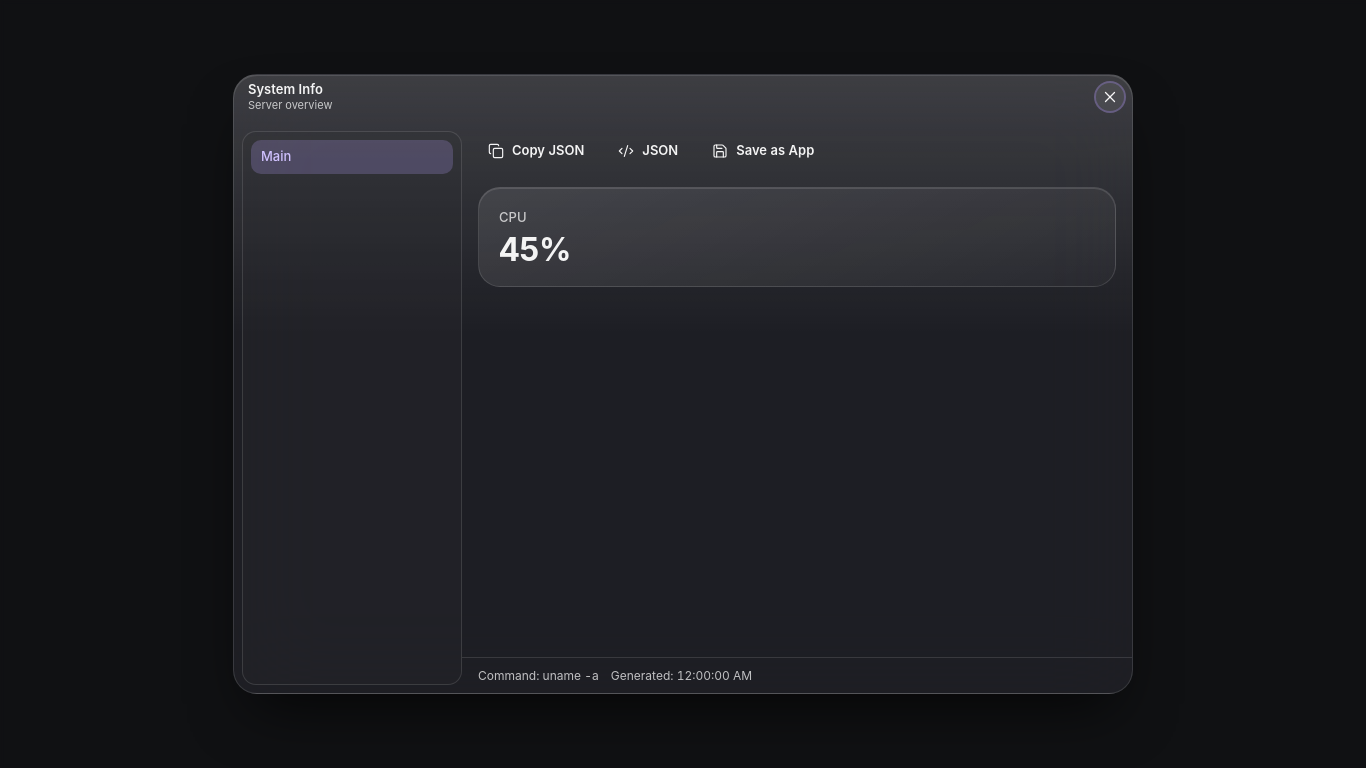
Test: DynamicAppWindow › toggles between JSON and preview
Click JSON button
Step 1. Click the button "JSON" → click(648, 151), box [604,133,692,169]
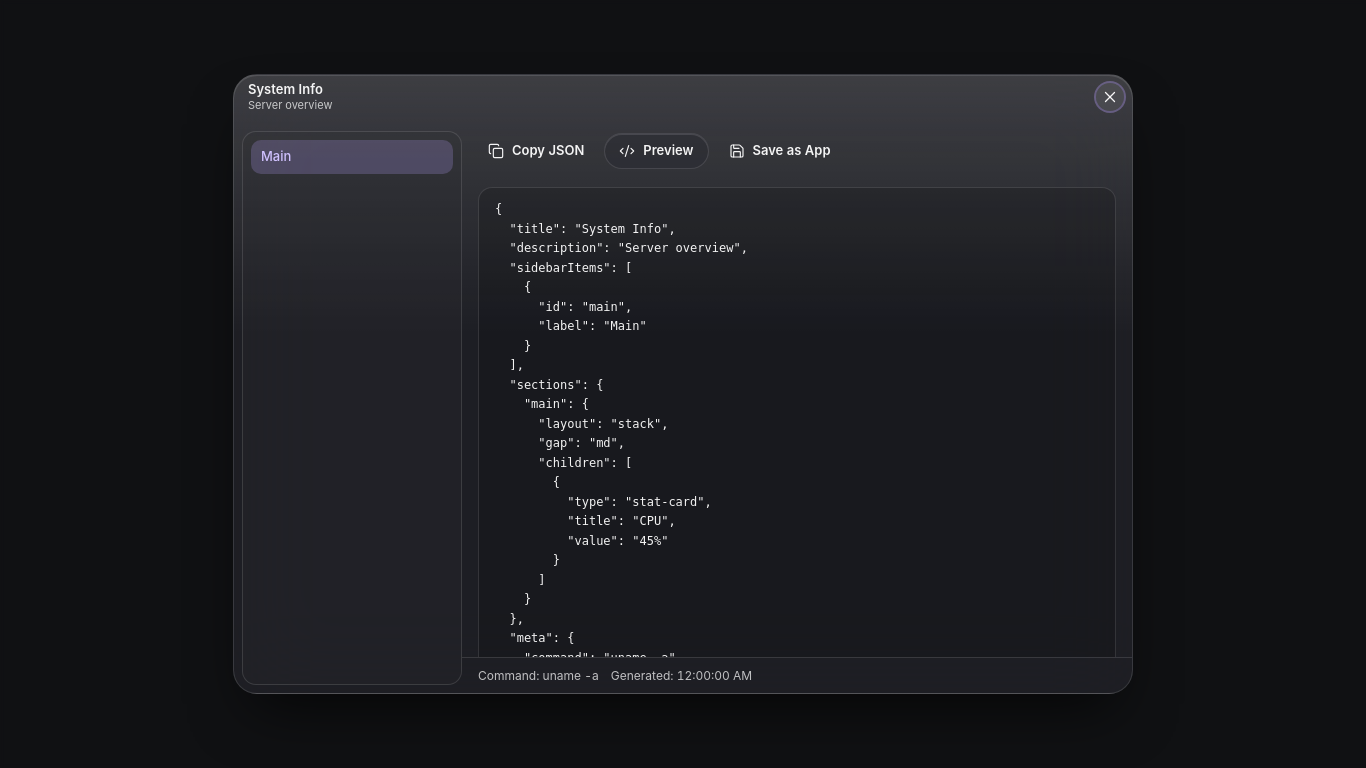
Check: the button "Preview" is shown, box [604,133,708,169]
Check: the text "\"title\": \"System Info\"" is shown, box [495,202,791,657]
